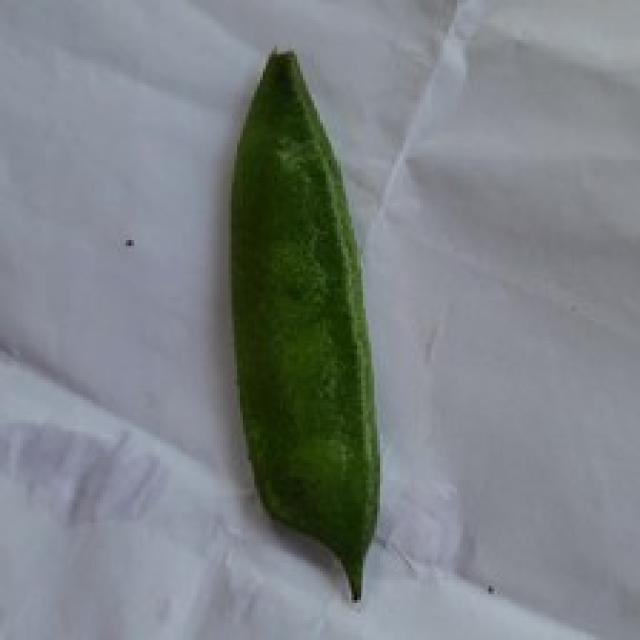Bean: (226, 43, 380, 600)
